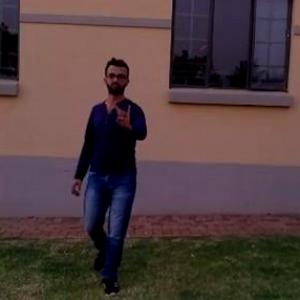takeoff-hand: (110, 101, 141, 134)
